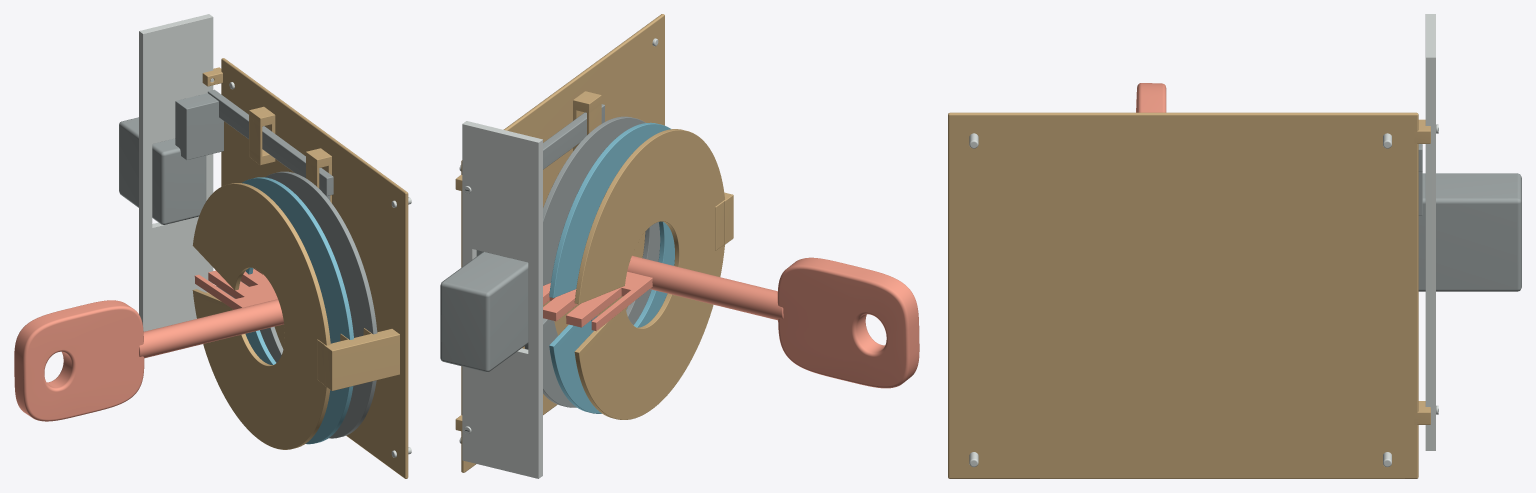
Rendered from warded.glb.
3 views of the same model, side by side, from view 1: azimuth 30°, elevation 25°; view 2: azimuth 150°, elevation 25°; view 3: azimuth 270°, elevation 25° (orthographic). The views are drawn at different scales.
Visible parts, largest first — view 1: Fixed ward 1 (inspection), Warded lock backplate (inspection), Cabinet edge forend (inspection), Warded key bow (inspection), Fixed ward 2 (inspection), Fixed ward 3 (inspection), Tall warded bolt head (inspection), Hollow key pipe (inspection), Ward mounting rail (inspection), Head to tail web (inspection), Bolt tail (inspection), Continuous ward-slotted key bit (inspection) (+1 smaller); view 2: Fixed ward 1 (inspection), Cabinet edge forend (inspection), Warded key bow (inspection), Warded lock backplate (inspection), Tall warded bolt head (inspection), Fixed ward 2 (inspection), Fixed ward 3 (inspection), Hollow key pipe (inspection), Continuous ward-slotted key bit (inspection), Bolt tail (inspection); view 3: Warded lock backplate (inspection), Tall warded bolt head (inspection), Cabinet edge forend (inspection), Warded key bow (inspection).
Boxes of the visible parts, x1,y1,x2,y2 form: Fixed ward 1 (inspection): [192, 183, 330, 449]; Warded lock backplate (inspection): [221, 58, 408, 478]; Cabinet edge forend (inspection): [139, 14, 213, 331]; Warded key bow (inspection): [14, 300, 144, 421]; Fixed ward 2 (inspection): [216, 177, 353, 444]; Fixed ward 3 (inspection): [241, 171, 377, 438]; Tall warded bolt head (inspection): [119, 117, 206, 224]; Hollow key pipe (inspection): [139, 299, 283, 358]; Ward mounting rail (inspection): [324, 329, 399, 390]; Head to tail web (inspection): [175, 93, 223, 159]; Bolt tail (inspection): [207, 89, 333, 196]; Continuous ward-slotted key bit (inspection): [194, 268, 277, 309]; Fixed ward 1 (inspection): [574, 129, 724, 419]; Cabinet edge forend (inspection): [462, 121, 542, 478]; Warded key bow (inspection): [777, 257, 919, 388]; Warded lock backplate (inspection): [461, 14, 664, 472]; Tall warded bolt head (inspection): [440, 252, 528, 372]; Fixed ward 2 (inspection): [549, 122, 674, 413]; Fixed ward 3 (inspection): [524, 116, 660, 407]; Hollow key pipe (inspection): [627, 255, 783, 320]; Continuous ward-slotted key bit (inspection): [543, 271, 652, 331]; Bolt tail (inspection): [543, 104, 604, 169]; Warded lock backplate (inspection): [948, 112, 1418, 478]; Tall warded bolt head (inspection): [1418, 173, 1521, 291]; Cabinet edge forend (inspection): [1425, 14, 1435, 450]; Warded key bow (inspection): [1136, 83, 1166, 112].
Bounding box in the file's own units: 4.59 × 4.48 × 5.55.
